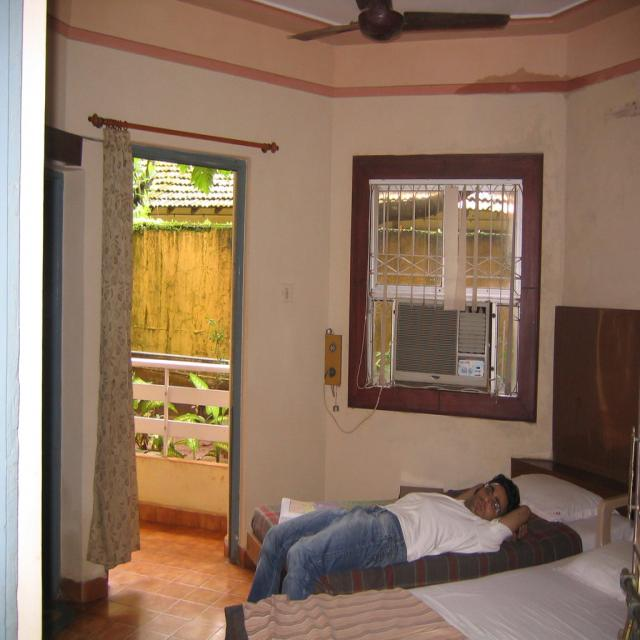Bulb: (284, 0, 510, 43)
